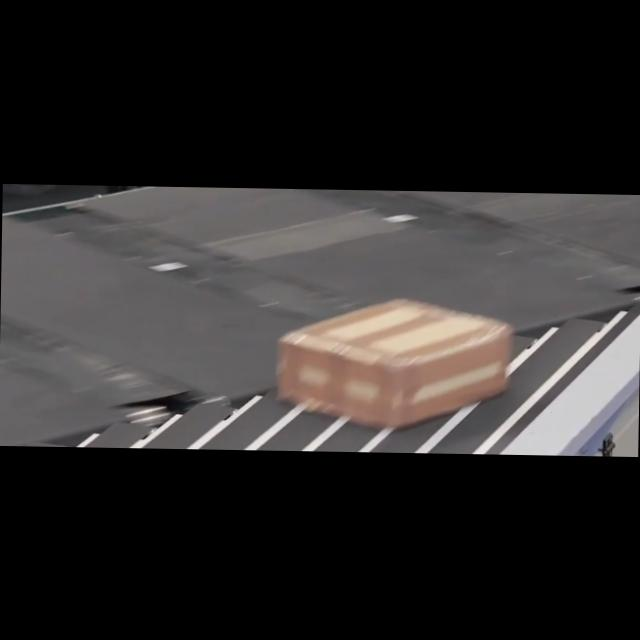box: (276, 296, 514, 428)
